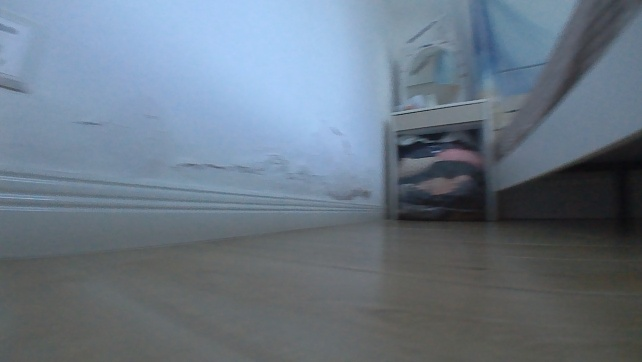bed1: (486, 0, 641, 205)
